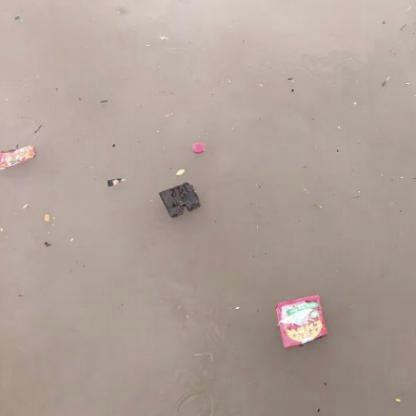Trash: (274, 291, 327, 351), (191, 142, 206, 158)
